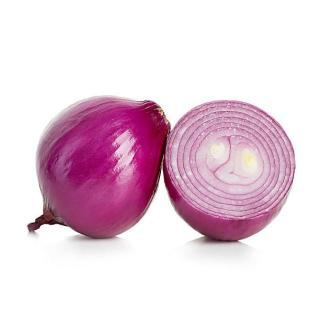Bawang Merah: (25, 93, 173, 244)
